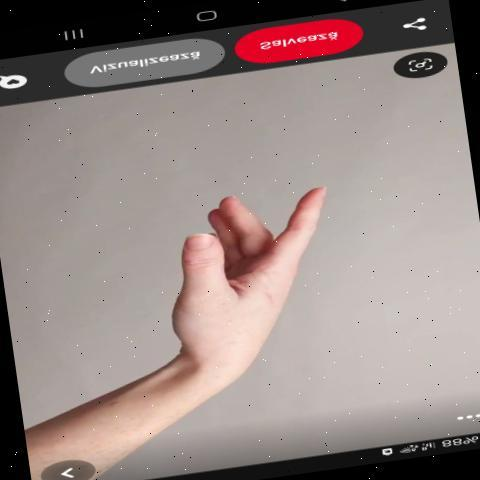Hands: (130, 137, 374, 421)
